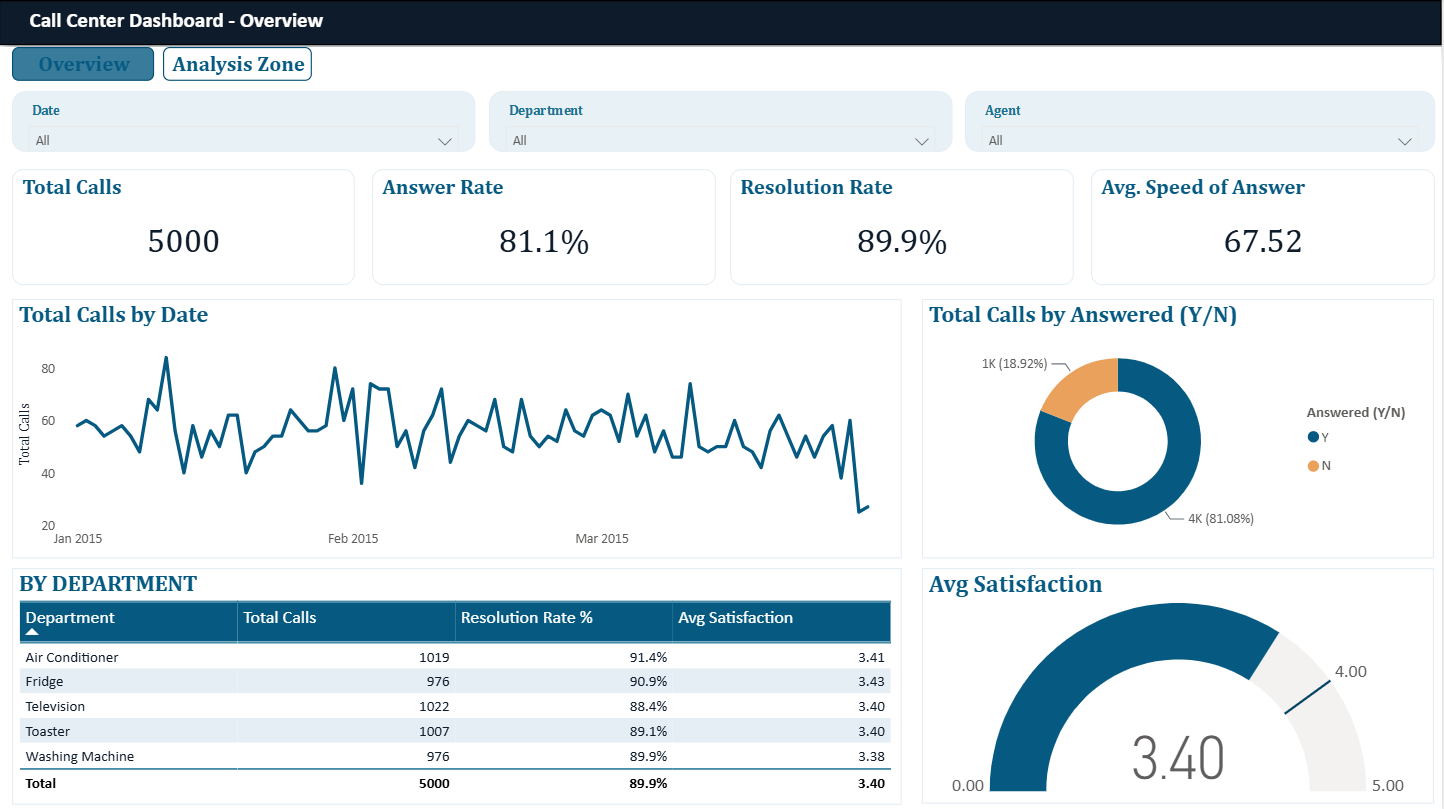

What the dashboard file says about the page in this screenshot:
{"tool":"powerbi","page":{"name":"Overview","canvas":[1280,720],"ordinal":0},"visuals":[{"type":"card","title":"Total Calls","fields":{"Values":["Measures_.Total Calls"]},"box":[12.7,149.5,304.4,103.1],"z":0},{"type":"card","title":"Answer Rate","fields":{"Values":["Measures_.Answer Rate"]},"box":[331.7,149.5,305.4,103.1],"z":1000},{"type":"card","title":"Resolution Rate","fields":{"Values":["Measures_.Resolution Rate %"]},"box":[648.8,149.5,305.4,103.1],"z":2000},{"type":"card","title":"Avg. Speed of Answer","fields":{"Values":["Measures_.Avg Speed of Answer"]},"box":[968.8,149.5,305.4,103.1],"z":3000},{"type":"lineChart","fields":{"Category":["Call Center Data.Date"],"Y":["Measures_.Total Calls"]},"box":[12.6,265.5,788.8,229.5],"z":4000},{"type":"donutChart","fields":{"Category":["Call Center Data.Answered (Y/N)"],"Y":["Measures_.Total Calls"]},"box":[819,265.5,454.2,229.5],"z":5000},{"type":"tableEx","title":"BY DEPARTMENT","fields":{"Values":["Call Center Data.Department","Measures_.Total Calls","Measures_.Resolution Rate %","Measures_.Avg Satisfaction"]},"box":[12.7,503.5,789.2,209.6],"z":6000},{"type":"slicer","fields":{"Values":["Call Center Data.Date"]},"box":[12.7,80.7,410.7,54.4],"z":7000},{"type":"slicer","fields":{"Values":["Call Center Data.Department"]},"box":[435.1,80.7,410.7,54.4],"z":8000},{"type":"slicer","fields":{"Values":["Call Center Data.Agent"]},"box":[857.6,80.7,417,54.4],"z":9000},{"type":"textbox","box":[0.9,0,1279.1,39.9],"z":10000},{"type":"gauge","fields":{"Y":["Measures_.Avg Satisfaction"]},"box":[819,504,454,209],"z":11000},{"type":"textbox","box":[0,41.7,1280,32.6],"z":12000},{"type":"actionButton","title":"Overview","box":[12.4,41.7,125.9,30.1],"z":13000},{"type":"actionButton","title":"Analysis Zone","box":[146.3,41.7,132.1,30.1],"z":14000}]}

Visuals, with their boxes in screenshot pixels (x1, y1, x2, y2), scaled from the page's 1280x720 canvas onto the 1444x809 screenshot:
"Total Calls" card: 14:168:358:284
"Answer Rate" card: 374:168:719:284
"Resolution Rate" card: 732:168:1076:284
"Avg. Speed of Answer" card: 1093:168:1437:284
lineChart - Call Center Data.Date x Measures_.Total Calls: 14:298:904:556
donutChart - Call Center Data.Answered (Y/N) x Measures_.Total Calls: 924:298:1436:556
"BY DEPARTMENT" tableEx: 14:566:905:801
slicer - Call Center Data.Date: 14:91:478:152
slicer - Call Center Data.Department: 491:91:954:152
slicer - Call Center Data.Agent: 967:91:1438:152
textbox: 1:0:1443:45
gauge - Measures_.Avg Satisfaction: 924:566:1436:801
textbox: 0:47:1443:83
"Overview" actionButton: 14:47:156:81
"Analysis Zone" actionButton: 165:47:314:81
